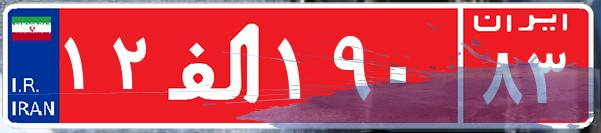0: (385, 28, 445, 110)
1: (273, 28, 330, 110), (57, 26, 110, 107)
2: (110, 28, 158, 105)
3: (525, 38, 570, 115)
8: (475, 38, 525, 113)
9: (330, 28, 385, 110)
الف: (158, 15, 273, 115)
